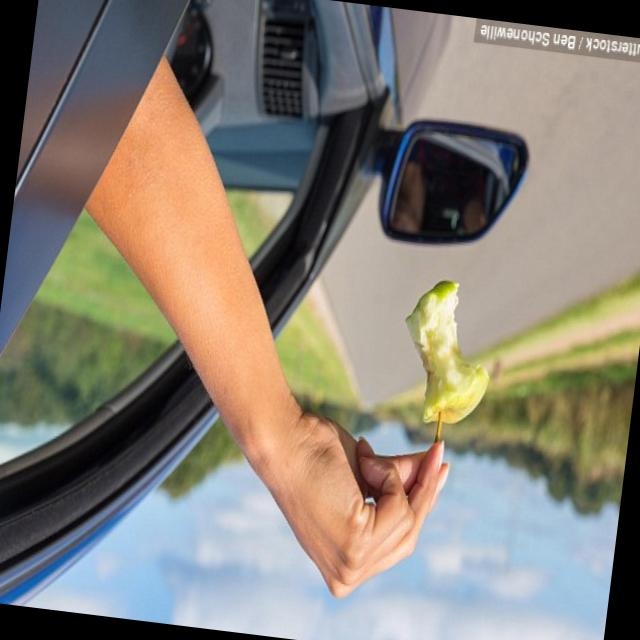apple_fruit: (355, 243, 532, 493)
